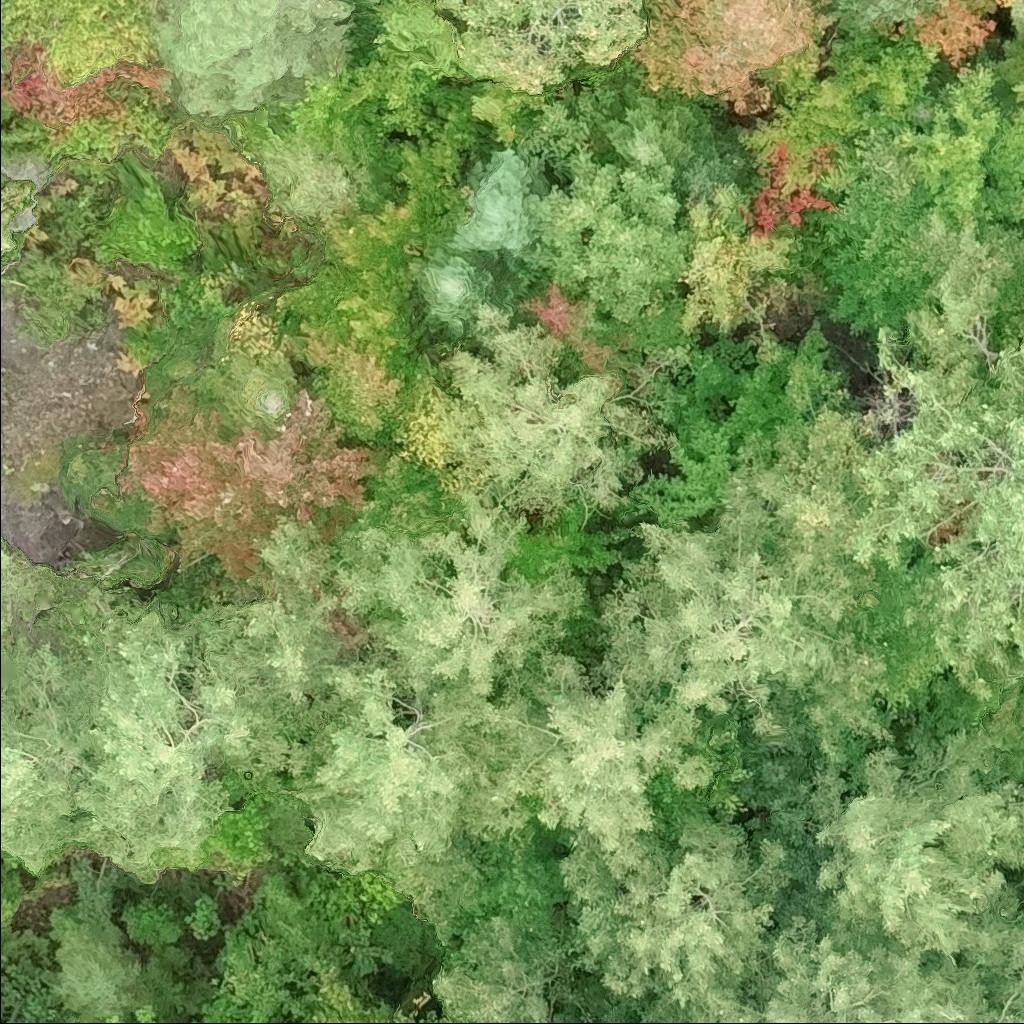crown: (69, 516, 375, 885), (576, 472, 900, 776), (294, 653, 541, 944), (844, 330, 1023, 706), (388, 294, 676, 521), (469, 656, 716, 885), (797, 728, 1023, 976), (554, 816, 821, 1023), (331, 496, 589, 710), (811, 62, 1004, 338), (179, 384, 388, 581), (0, 542, 115, 874), (510, 141, 694, 325), (709, 908, 993, 1023), (274, 267, 443, 454), (624, 351, 801, 525), (152, 0, 357, 126), (626, 0, 842, 115), (114, 378, 240, 541), (437, 0, 645, 97), (739, 406, 869, 554), (901, 207, 1023, 362), (324, 195, 467, 315), (148, 329, 302, 438), (431, 908, 576, 1023), (739, 76, 865, 208), (410, 244, 542, 354), (0, 0, 157, 85), (827, 23, 939, 132), (596, 77, 721, 173), (451, 142, 550, 257), (738, 145, 834, 238), (359, 451, 462, 528), (895, 0, 997, 67), (677, 121, 755, 203), (460, 77, 540, 148), (985, 895, 1023, 1023), (827, 0, 945, 32), (993, 29, 1023, 109), (0, 20, 17, 125), (392, 1008, 429, 1023), (147, 0, 161, 14)
